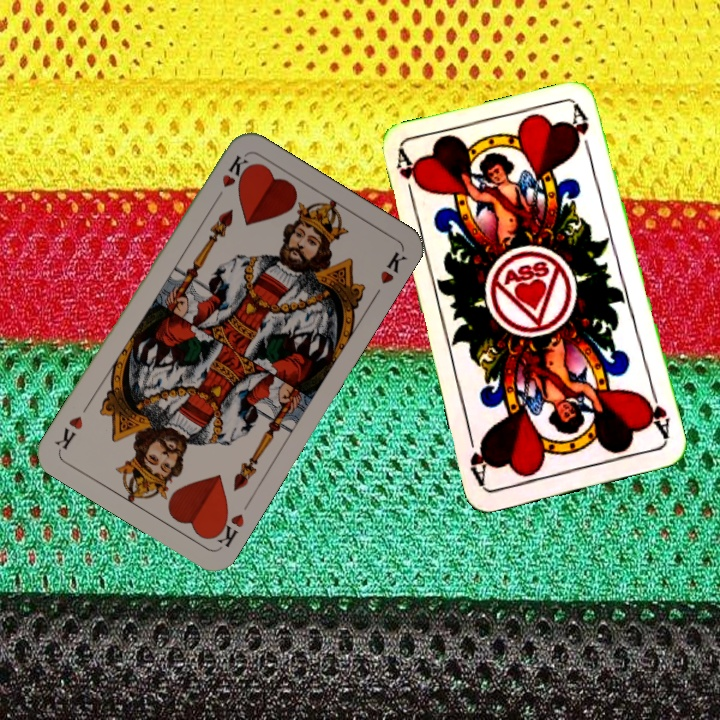HA: (639, 385, 673, 443), (392, 147, 425, 206)
HK: (209, 151, 251, 206), (207, 506, 247, 550)
